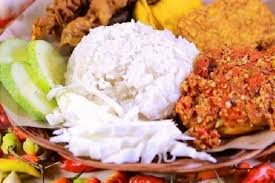ayam_geprek: (176, 16, 275, 146)
